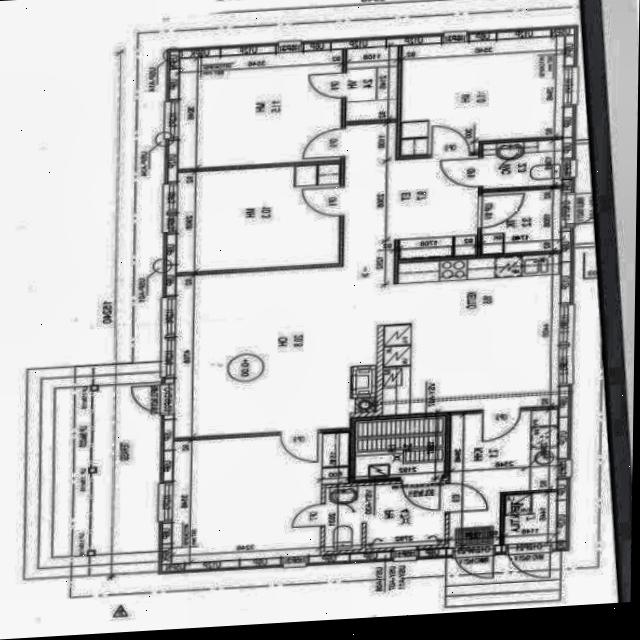room: (165, 430, 356, 563), (172, 47, 348, 168), (171, 48, 348, 168), (396, 35, 569, 155), (170, 163, 346, 272), (449, 407, 557, 547), (321, 480, 449, 550), (351, 415, 449, 479), (479, 188, 565, 253), (480, 139, 565, 188), (346, 44, 397, 121), (501, 491, 560, 544)
